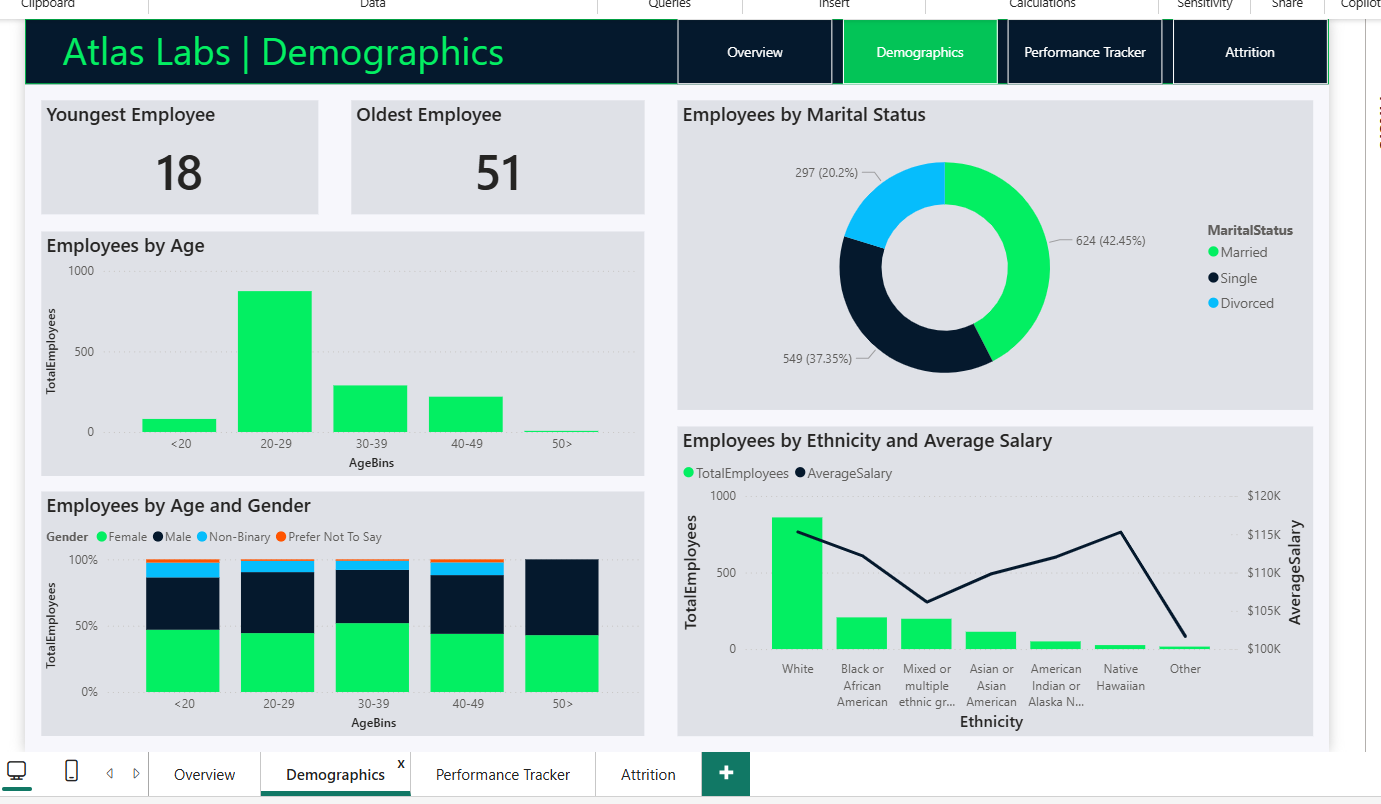

The page's visual inventory and layout, read from the dashboard file:
{"tool":"powerbi","page":{"name":"Demographics","canvas":[1280,720],"ordinal":1},"visuals":[{"type":"card","title":"Youngest Employee","fields":{"Values":["Min(DimEmployee.Age)"]},"box":[16,80,272,112],"z":0},{"type":"card","title":"Oldest Employee","fields":{"Values":["Max(DimEmployee.Age)"]},"box":[320,80,288,112],"z":1000},{"type":"columnChart","title":"Employees by Age","fields":{"Category":["DimEmployee.AgeBins"],"Y":["_Measures.TotalEmployees"]},"box":[16,208,592,240],"z":2000},{"type":"hundredPercentStackedColumnChart","title":"Employees by Age and Gender","fields":{"Category":["DimEmployee.AgeBins"],"Series":["DimEmployee.Gender"],"Y":["_Measures.TotalEmployees"]},"box":[16,464,592,240],"z":3000},{"type":"donutChart","title":"Employees by Marital Status","fields":{"Category":["DimEmployee.MaritalStatus"],"Y":["_Measures.TotalEmployees"]},"box":[640,80,624,304],"z":4000},{"type":"lineStackedColumnComboChart","title":"Employees by Ethnicity and Average Salary","fields":{"Category":["DimEmployee.Ethnicity"],"Y":["_Measures.TotalEmployees"],"Y2":["_Measures.AverageSalary"]},"box":[640,400,624,304],"z":5000},{"type":"shape","box":[0,0,1280,64],"z":6000},{"type":"textbox","box":[32,0,624,64],"z":7000},{"type":"pageNavigator","box":[640,0,640,64],"z":8000}]}

Visuals, with their boxes on the page's 1280x720 design canvas (x1, y1, x2, y2). These are canvas units, not pixel positions in the 1381x804 screenshot, which may show the page scaled, cropped or inside an application window:
"Youngest Employee" card: (x1=16, y1=80, x2=288, y2=192)
"Oldest Employee" card: (x1=320, y1=80, x2=608, y2=192)
"Employees by Age" columnChart: (x1=16, y1=208, x2=608, y2=448)
"Employees by Age and Gender" hundredPercentStackedColumnChart: (x1=16, y1=464, x2=608, y2=704)
"Employees by Marital Status" donutChart: (x1=640, y1=80, x2=1264, y2=384)
"Employees by Ethnicity and Average Salary" lineStackedColumnComboChart: (x1=640, y1=400, x2=1264, y2=704)
shape: (x1=0, y1=0, x2=1280, y2=64)
textbox: (x1=32, y1=0, x2=656, y2=64)
pageNavigator: (x1=640, y1=0, x2=1280, y2=64)
